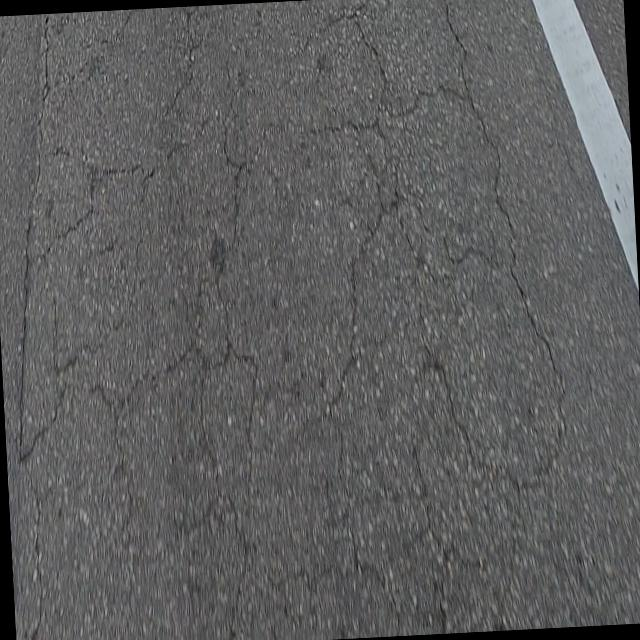Retak-Buaya: (13, 0, 585, 640)
